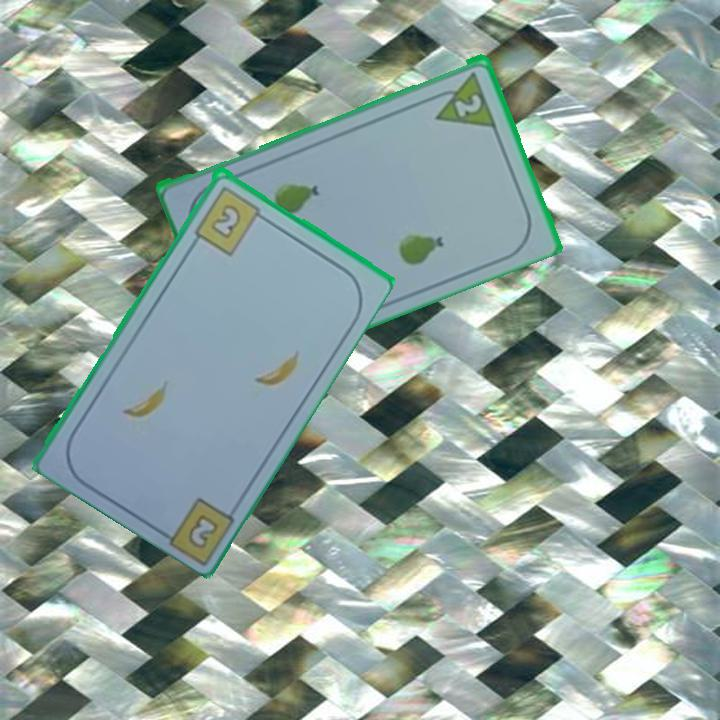2b: (190, 182, 270, 258), (184, 510, 222, 552)
2p: (451, 89, 485, 120)
